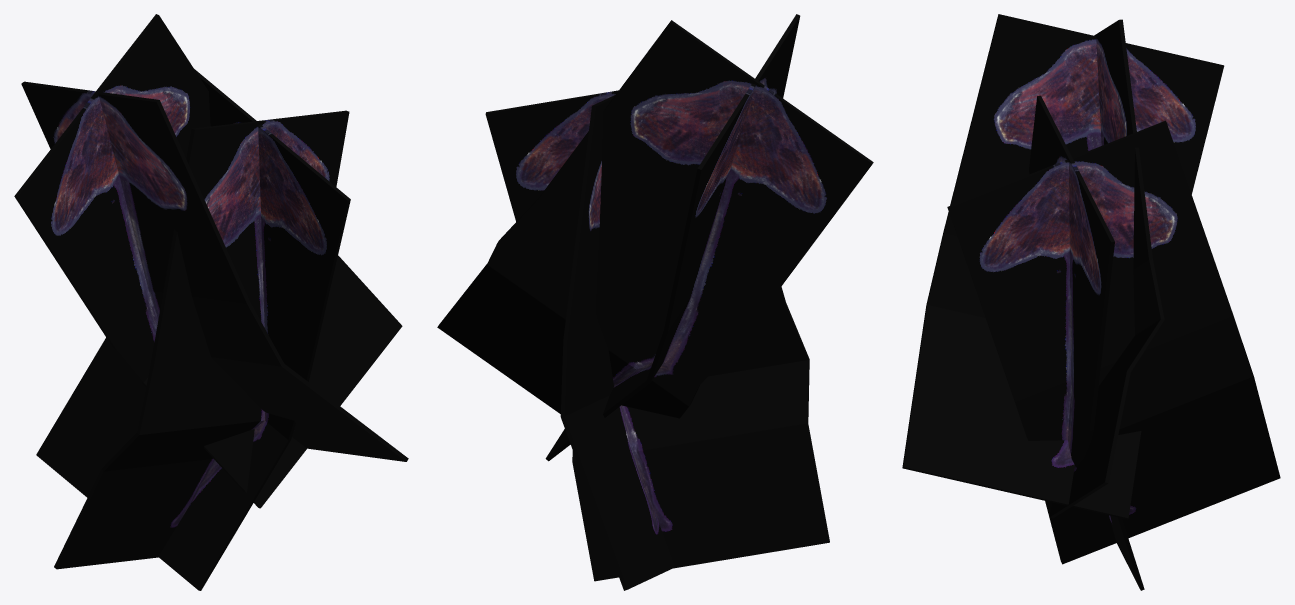
Rendered from PurpleMushroom2.fbx.
The picture shows the model from 3 angles, left to right: view 1: azimuth 30°, elevation 25°; view 2: azimuth 150°, elevation 25°; view 3: azimuth 270°, elevation 25°; orthographic projection. The views are drawn at different scales.
Visible parts, largest first — view 1: PurpleMushroom2; view 2: PurpleMushroom2; view 3: PurpleMushroom2.
Part boxes in pixels (<box>): PurpleMushroom2: <box>14,14,408,590</box>; PurpleMushroom2: <box>437,14,873,590</box>; PurpleMushroom2: <box>902,14,1280,590</box>.
Bounding box in the file's own units: 297 × 390 × 247.
Materials: 1 (1 with a texture image).
